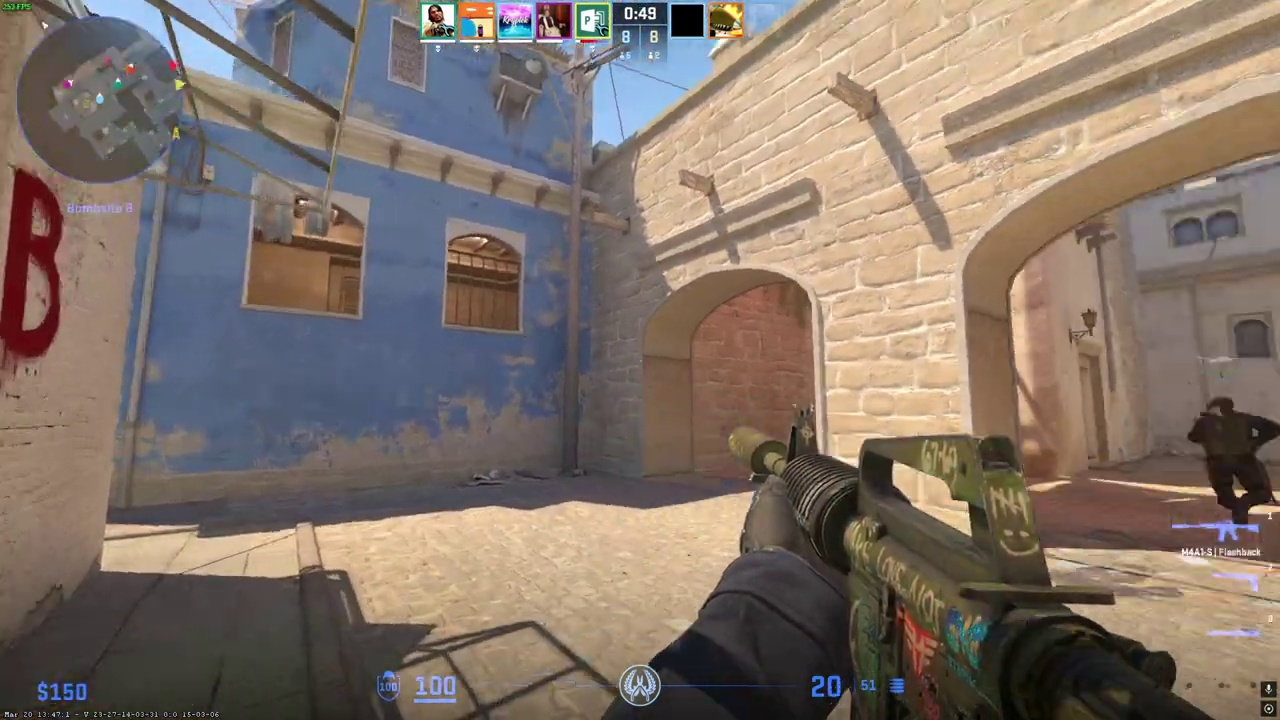CT: (1196, 394, 1277, 553)
